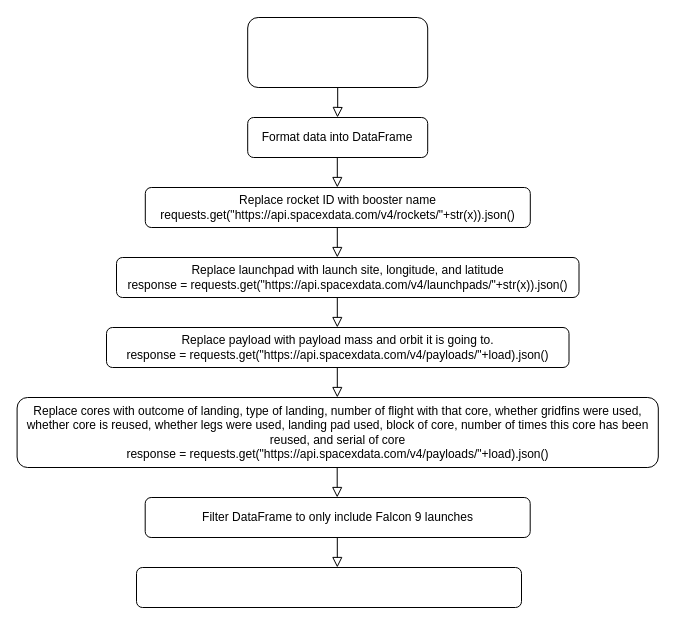
The diagram is 677 pixels wide and 625 high, and some of its shapes have lost their labels. Each missing label, with the box of its shape:
Deal with missing values. Fill in missing payload mass with mean payload mass.: (136, 566, 522, 608)
Request rocket launch data from SpaceX API response = requests.get(spacex_url): (247, 16, 428, 88)
